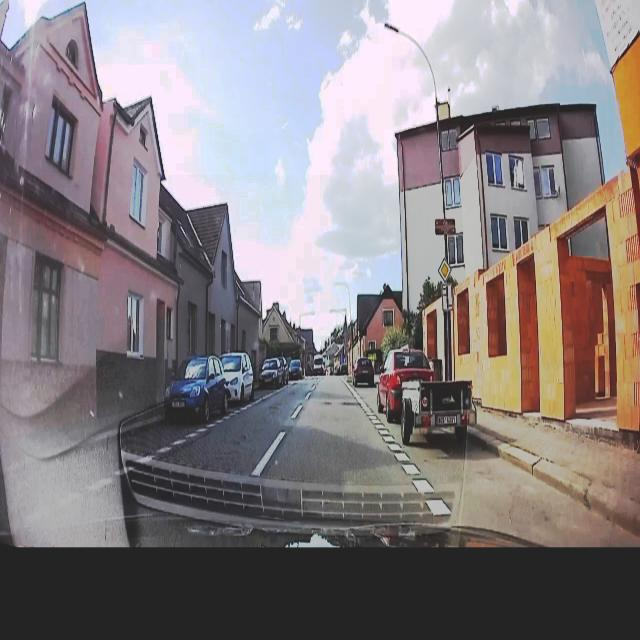Priority road: (437, 256, 452, 284)
